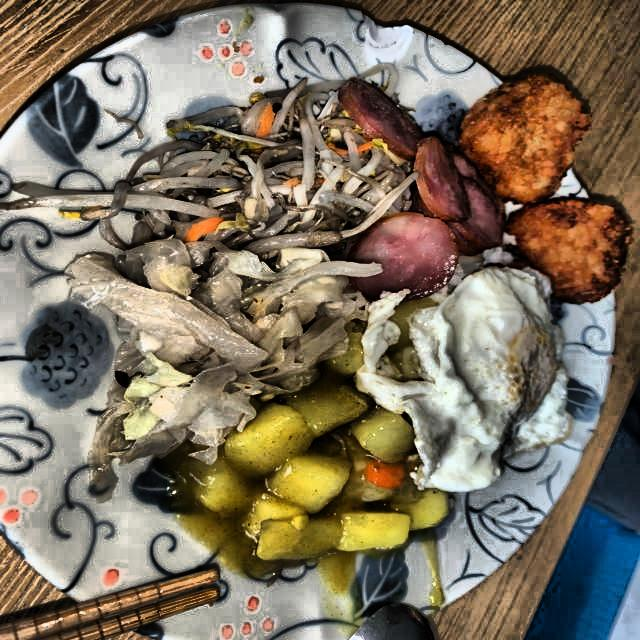Food: (110, 248, 326, 437), (466, 68, 631, 314), (397, 264, 573, 492), (346, 85, 508, 309), (246, 383, 412, 580), (176, 116, 349, 242)
